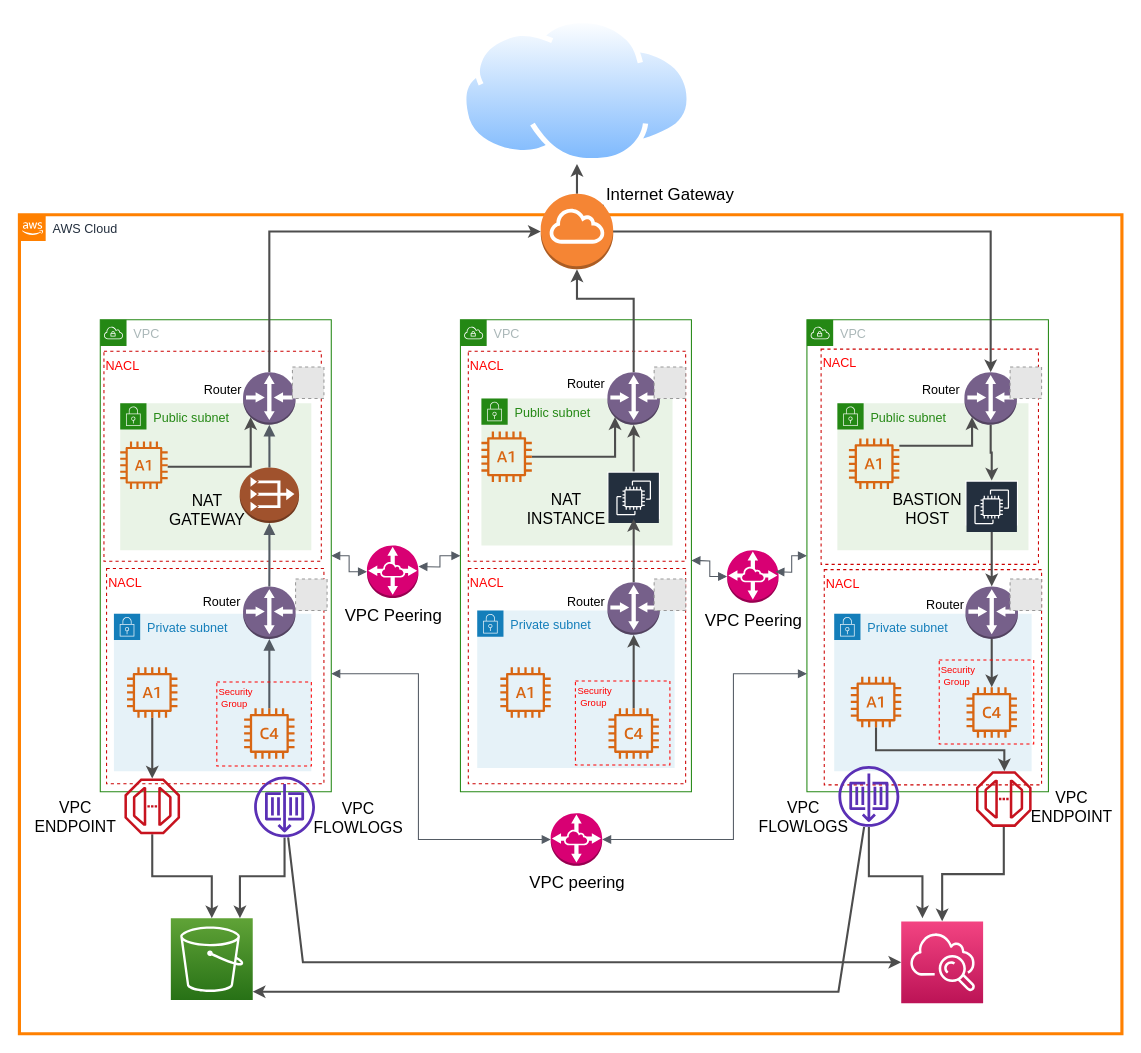
This 1141x1053 diagram has some shape labels left out. Grey dashed boxes stand in for pictures. The centre of each missing label's shape, as x and y in pixels:
"Cloud Watch" goes at (941,961).
"Internet" goes at (576,90).
"S3" goes at (211,958).
